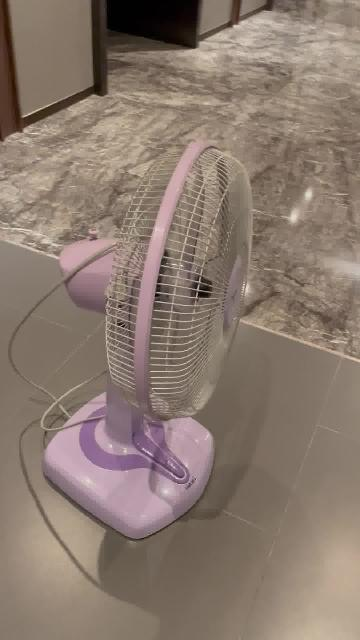Fan: (44, 137, 253, 541)
